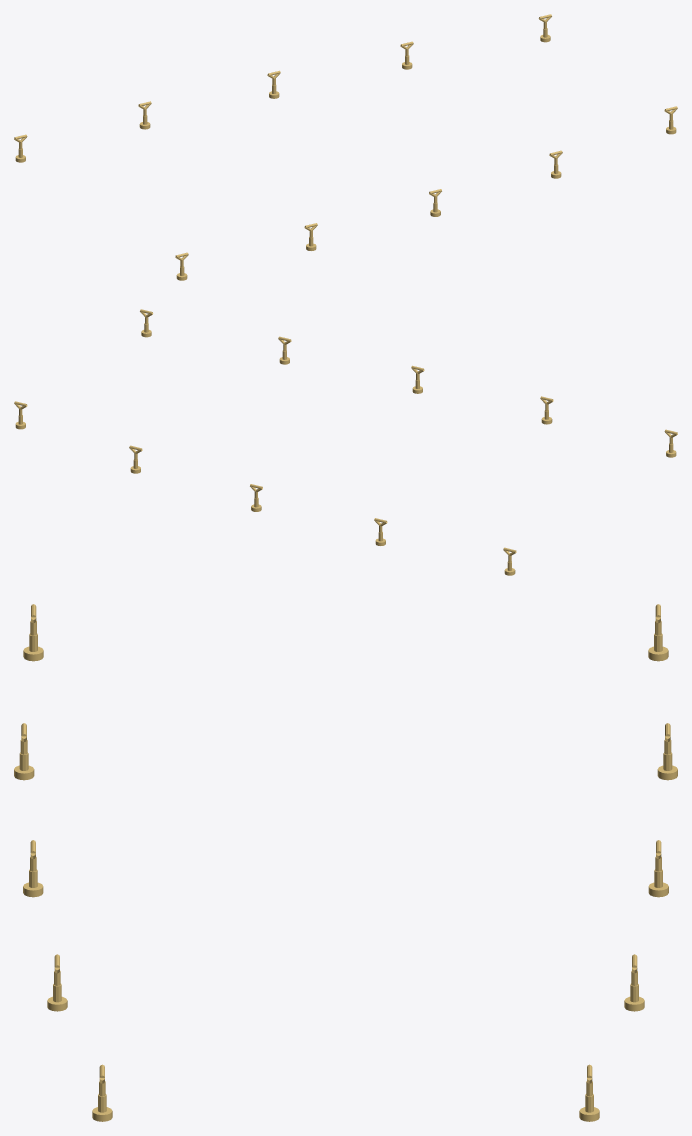
File: Rowlocks.glb
3 renders of one model, top to bottom at view 1: azimuth 30°, elevation 25°; view 2: azimuth 150°, elevation 25°; view 3: azimuth 270°, elevation 25°, orthographic. The views are drawn at different scales.
Parts seen in each view (by area): view 1: Rowlocks; view 2: Rowlocks; view 3: Rowlocks.
Boxes of the visible parts, x1,y1,x2,y2 form: Rowlocks: (14, 14, 677, 280); Rowlocks: (14, 309, 677, 575); Rowlocks: (14, 604, 677, 1121).
Bounding box in the file's own units: 3.44 × 0.2158 × 1.96.
